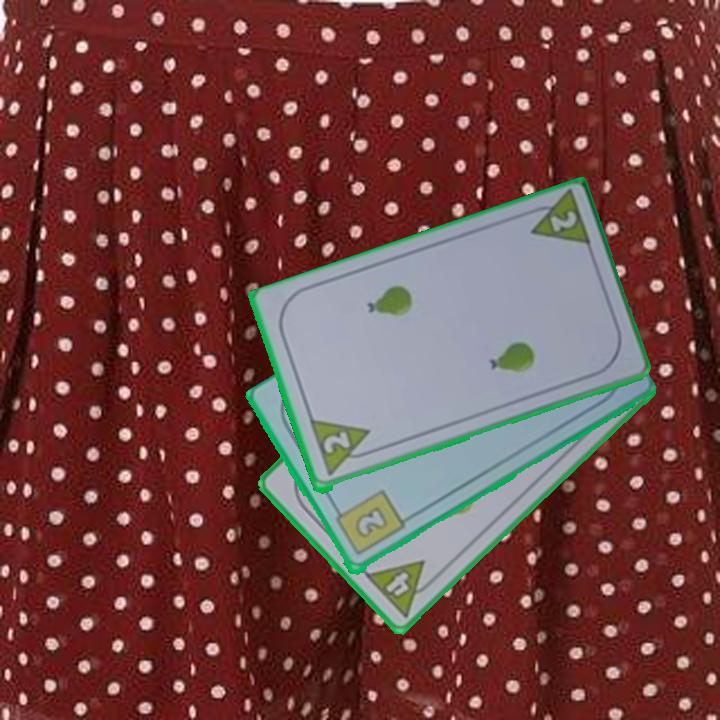2b: (329, 486, 408, 560)
2p: (319, 428, 353, 458), (546, 207, 580, 236)
4p: (361, 556, 442, 621)
